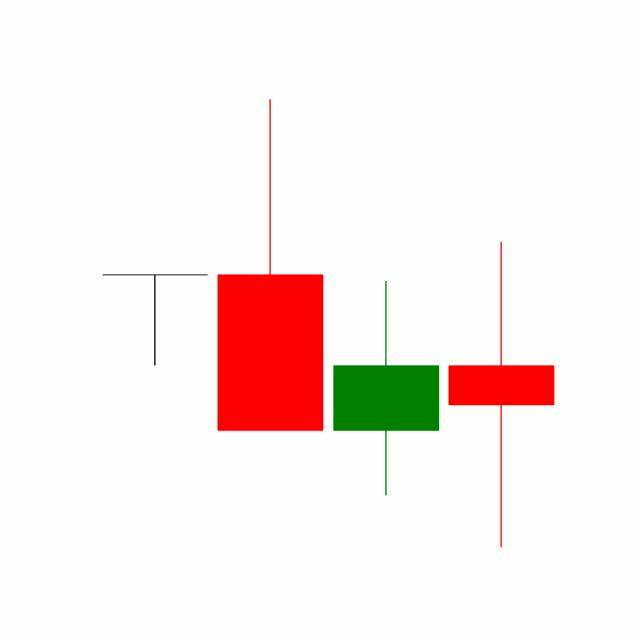Spinning Top: (444, 239, 560, 552)
